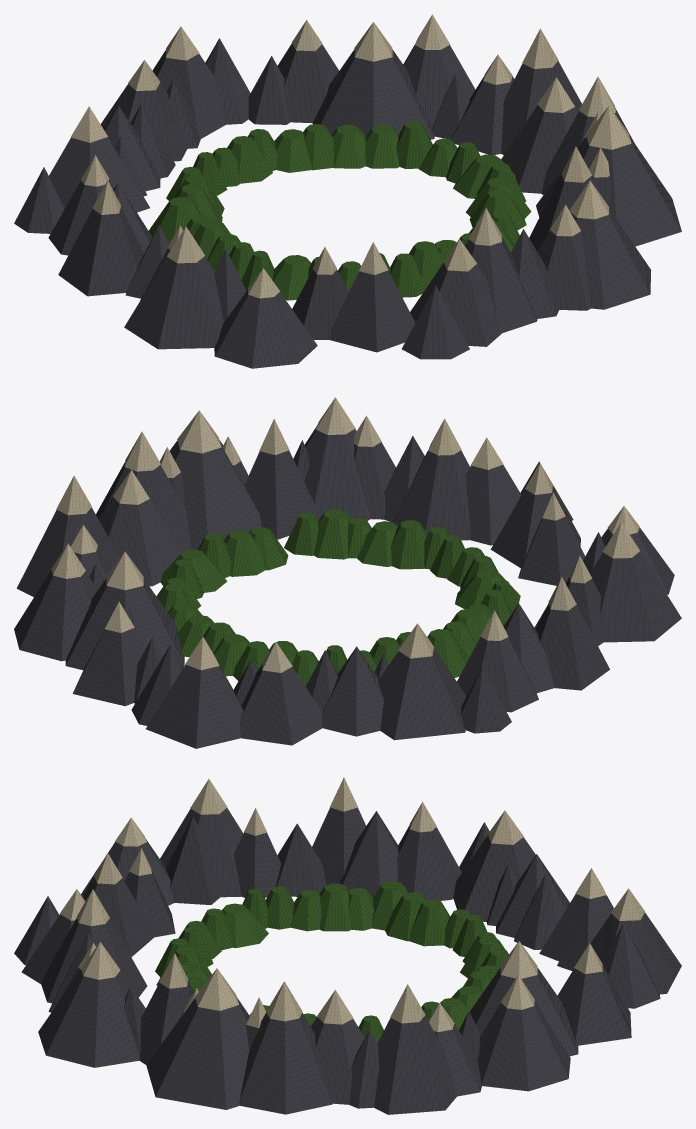
File: panorama_montes.obj
3 renders of one model, top to bottom at view 1: azimuth 30°, elevation 25°; view 2: azimuth 150°, elevation 25°; view 3: azimuth 270°, elevation 25°, orthographic. The views are drawn at different scales.
Parts seen in each view (by area): view 1: panorama_montes; view 2: panorama_montes; view 3: panorama_montes.
Part boxes in pixels (bbox=[...]): panorama_montes: bbox=[14, 14, 681, 368]; panorama_montes: bbox=[14, 397, 681, 748]; panorama_montes: bbox=[14, 777, 681, 1114].
Bounding box in the file's own units: 429 × 83.85 × 462.
3 materials, 3 textured.
